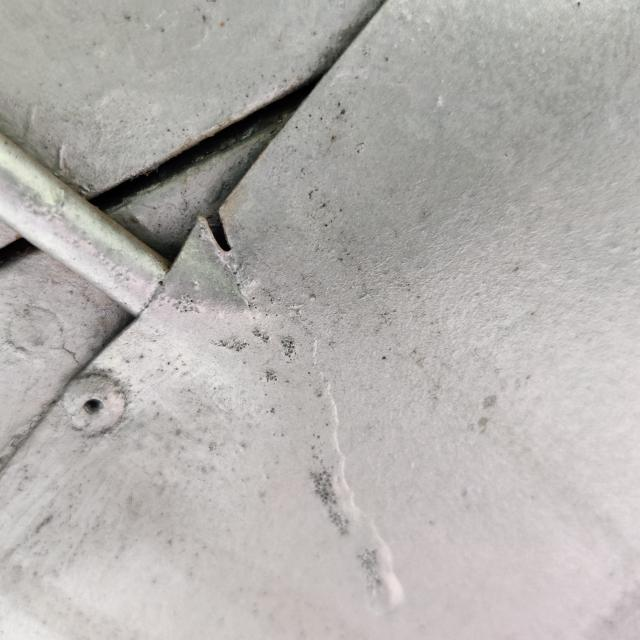crack: (181, 188, 252, 273)
